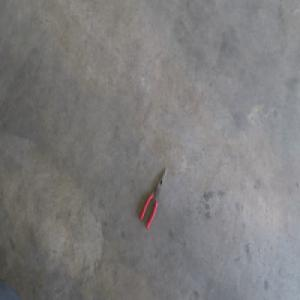Pliers: (138, 168, 167, 229)
